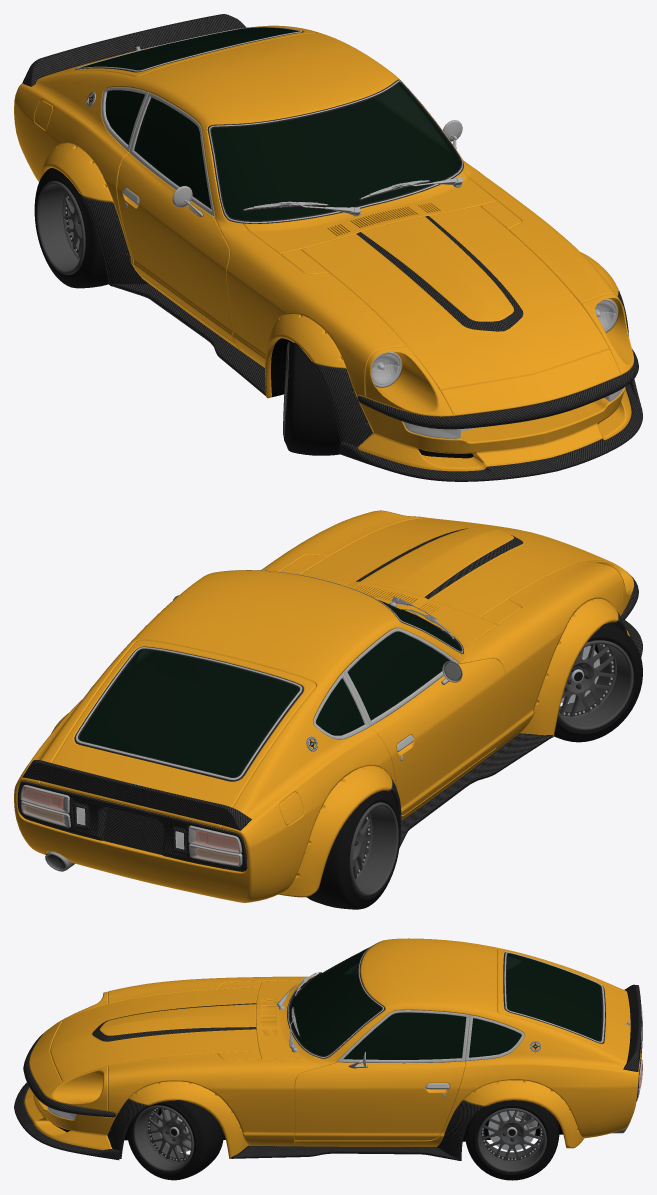
File: datsun-s30-280z.glb
The picture shows the model from 3 angles, top to bottom: view 1: azimuth 30°, elevation 25°; view 2: azimuth 150°, elevation 25°; view 3: azimuth 270°, elevation 25°; orthographic projection. The views are drawn at different scales.
Bounding box in the file's own units: 1.71 × 1.03 × 3.62.
Materials: 15 (10 with a texture image).
